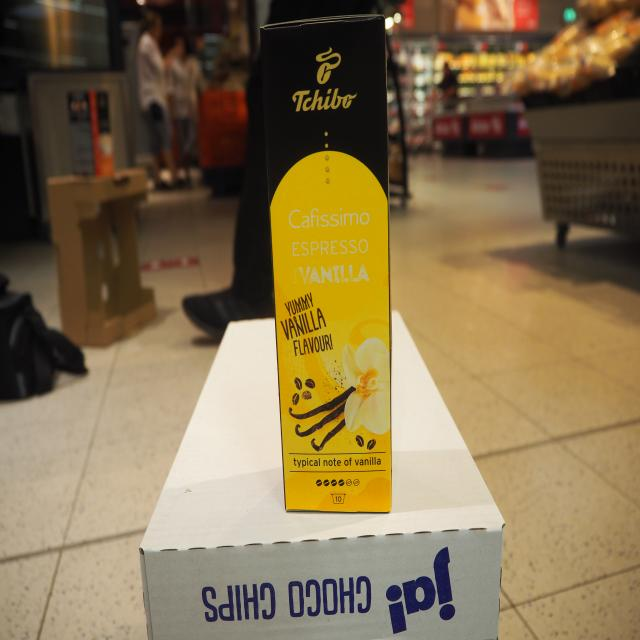Simo Es Vanilla: (256, 10, 394, 514)
